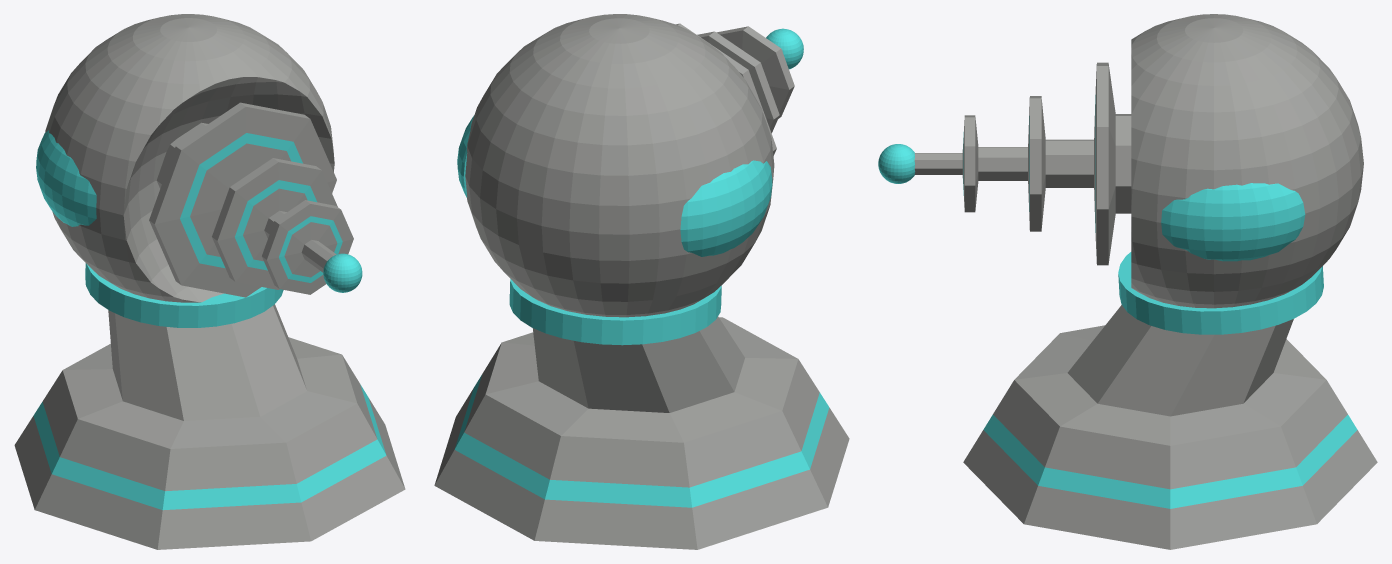
File: Laser_Tower_Ice.fbx
3 views of the same model, side by side, from view 1: azimuth 30°, elevation 25°; view 2: azimuth 150°, elevation 25°; view 3: azimuth 270°, elevation 25° (orthographic). The views are drawn at different scales.
Parts seen in each view (by area): view 1: Sphere; view 2: Sphere; view 3: Sphere.
Part boxes in pixels (x1=…): Sphere: x1=14, y1=14, x2=405, y2=549; Sphere: x1=434, y1=14, x2=849, y2=549; Sphere: x1=878, y1=14, x2=1377, y2=549.
Size of the model in its own units: 445 by 514 by 536.
1 material, 1 textured.
